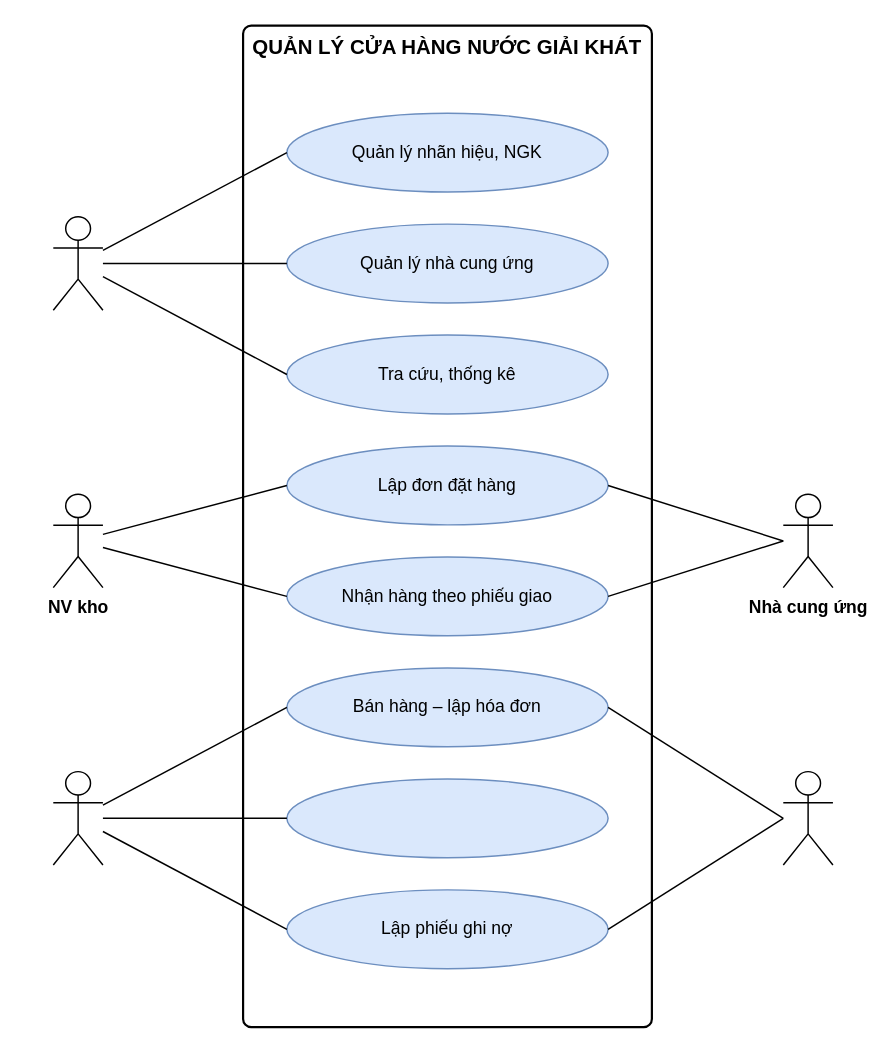
The diagram is 892 pixels wide and 1054 high, and some of its shapes have lost their labels. Each missing label, with the centre of its shape:
Khách hàng: the point at 807,817
Lập phiếu hẹn giao: the point at 446,817
NV bán hàng: the point at 77,817
Quản lý: the point at 77,262
